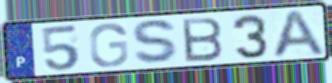3: (231, 13, 270, 60)
5: (39, 23, 82, 73)
A: (269, 8, 328, 60)
B: (179, 16, 225, 64)
G: (88, 21, 131, 68)
S: (130, 18, 183, 67)
